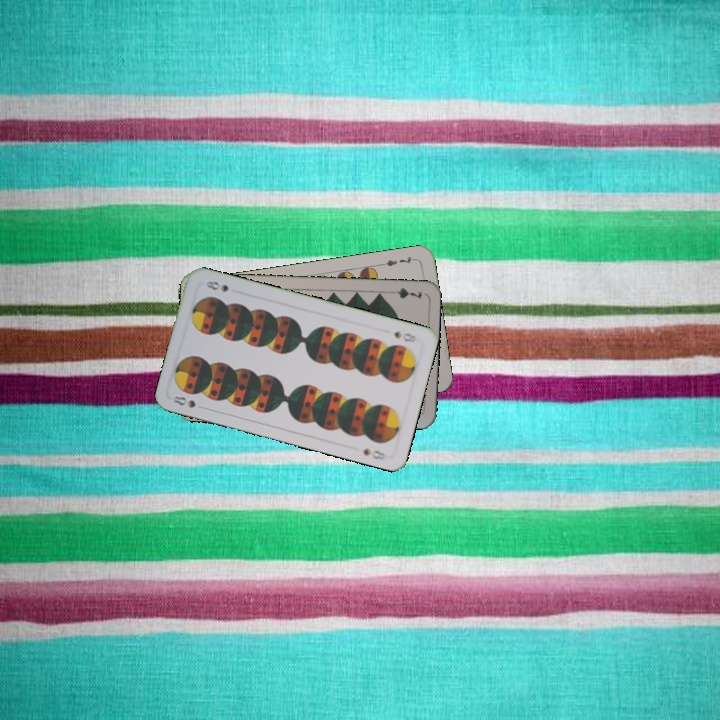E7: (378, 252, 418, 269)
G7: (384, 284, 424, 301)
S8: (169, 392, 209, 412), (390, 327, 420, 345)
